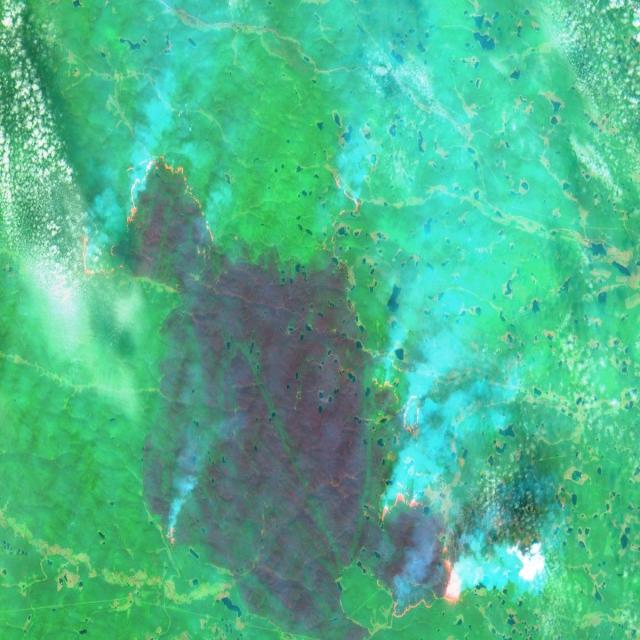fire: (76, 152, 216, 286), (378, 485, 467, 624), (369, 371, 425, 440), (330, 167, 366, 220), (158, 518, 184, 556)
